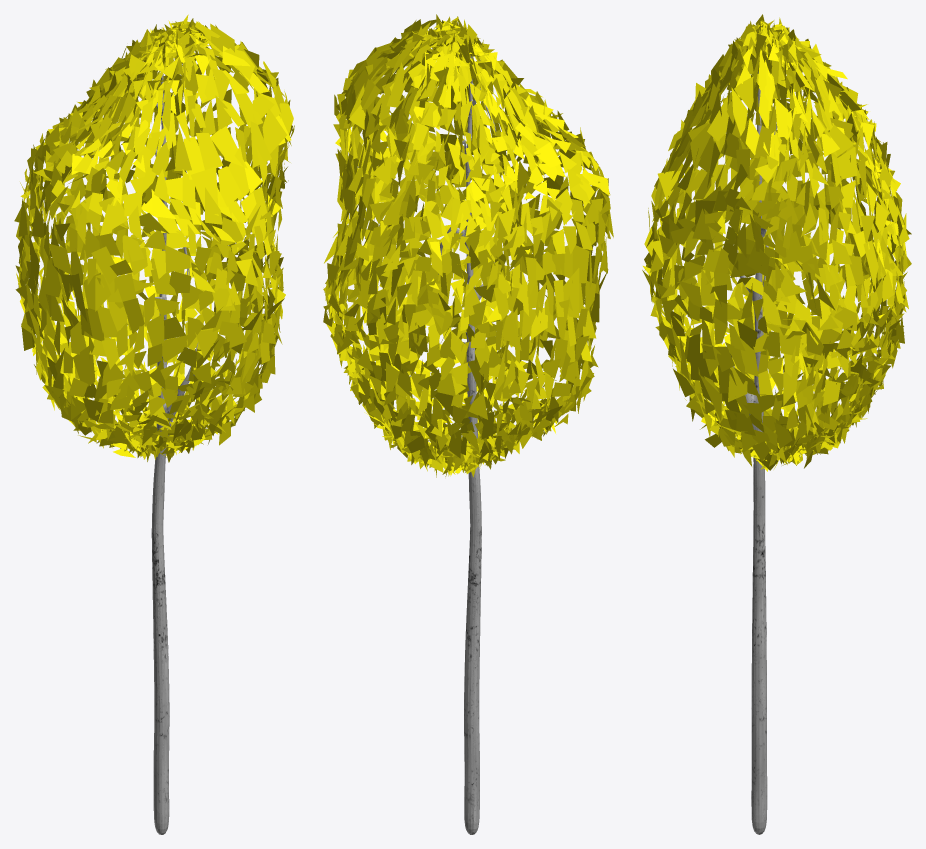
The model's file is Leaves45.fbx.
3 renders of one model, left to right at view 1: azimuth 30°, elevation 25°; view 2: azimuth 150°, elevation 25°; view 3: azimuth 270°, elevation 25°, orthographic.
Visible parts, largest first — view 1: Leaves45; view 2: Leaves45; view 3: Leaves45.
Boxes of the visible parts, <box> form: Leaves45: <box>14,14,294,834</box>; Leaves45: <box>323,14,613,834</box>; Leaves45: <box>642,14,911,834</box>.
Bounding box in the file's own units: 873 × 2643 × 783.
2 materials, 1 textured.
